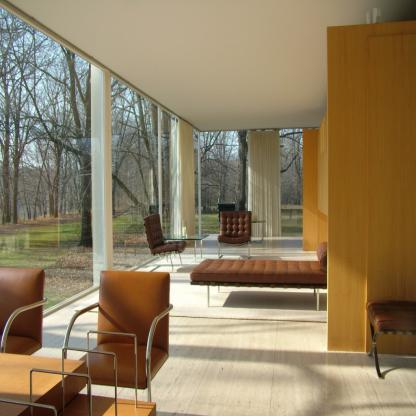chair: (56, 257, 182, 403), (0, 249, 43, 359), (362, 296, 416, 382), (213, 199, 267, 258), (138, 212, 191, 267)
sofa: (194, 242, 326, 312)
table: (0, 357, 163, 416)
